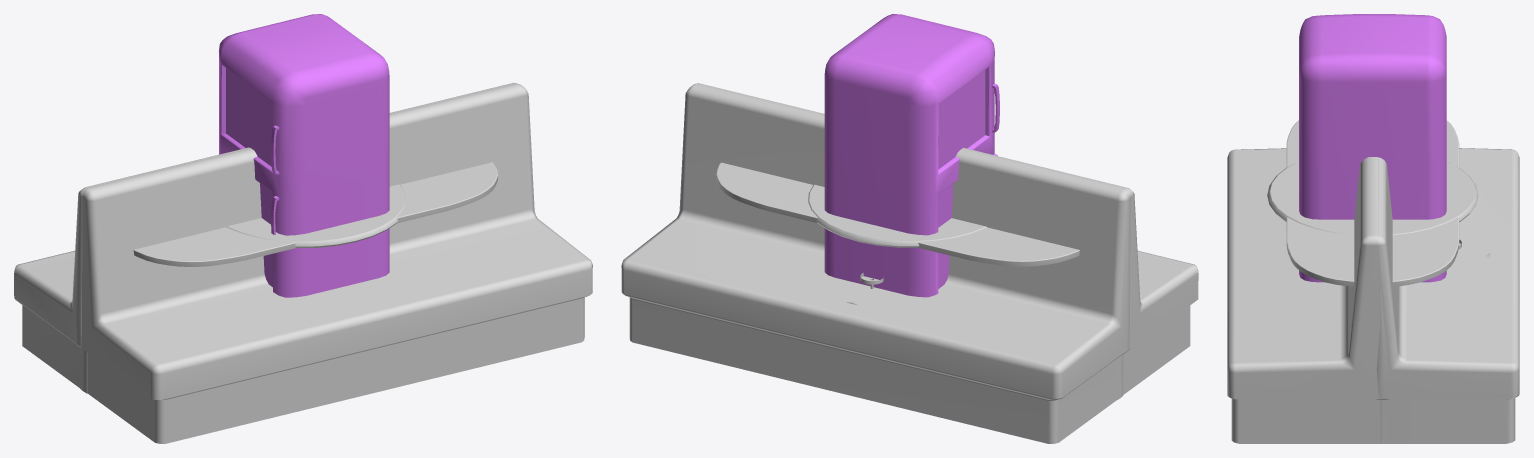
The model's file is RestaurantBundle.fbx.
3 views of the same model, side by side, from view 1: azimuth 30°, elevation 25°; view 2: azimuth 150°, elevation 25°; view 3: azimuth 270°, elevation 25° (orthographic).
Visible parts, largest first — view 1: DinerSofa_Double, Fridge, DinerSofa_Single, RoundedLongTable, RoundTable; view 2: DinerSofa_Single, Fridge, DinerSofa_Double, RoundedLongTable, RoundTable; view 3: DinerSofa_Double, Fridge, DinerSofa_Single, RoundedLongTable, RoundTable.
Boxes of the visible parts, x1,y1,x2,y2 form: DinerSofa_Double: (15,83,592,443); Fridge: (218,14,389,297); DinerSofa_Single: (14,82,515,393); RoundedLongTable: (133,162,497,266); RoundTable: (226,184,405,247); DinerSofa_Single: (621,87,1130,443); Fridge: (824,14,999,297); DinerSofa_Double: (622,83,1198,398); RoundedLongTable: (716,162,1079,266); RoundTable: (808,184,986,247); DinerSofa_Double: (1227,148,1517,443); Fridge: (1299,14,1446,282); DinerSofa_Single: (1376,148,1519,443); RoundedLongTable: (1286,120,1459,286); RoundTable: (1267,162,1478,235).
Size of the model in its own units: 3.95 by 2.55 by 2.22.
